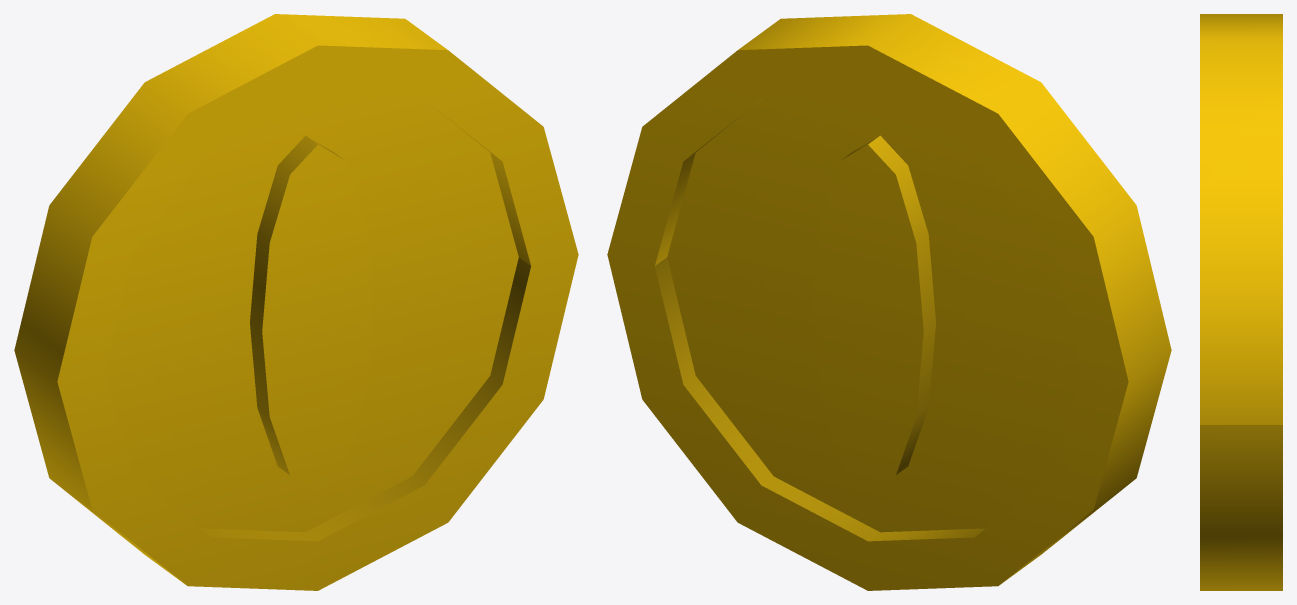
File: PROP_001_Coin.fbx
The picture shows the model from 3 angles, left to right: view 1: azimuth 30°, elevation 25°; view 2: azimuth 150°, elevation 25°; view 3: azimuth 270°, elevation 25°; orthographic projection. The views are drawn at different scales.
Parts seen in each view (by area): view 1: PROP_001_Coin; view 2: PROP_001_Coin; view 3: PROP_001_Coin.
Part boxes in pixels (bbox=[...]): PROP_001_Coin: bbox=[14, 14, 578, 590]; PROP_001_Coin: bbox=[607, 14, 1171, 590]; PROP_001_Coin: bbox=[1200, 14, 1282, 590].
Bounding box in the file's own units: 5.51 × 5.51 × 0.7874.
